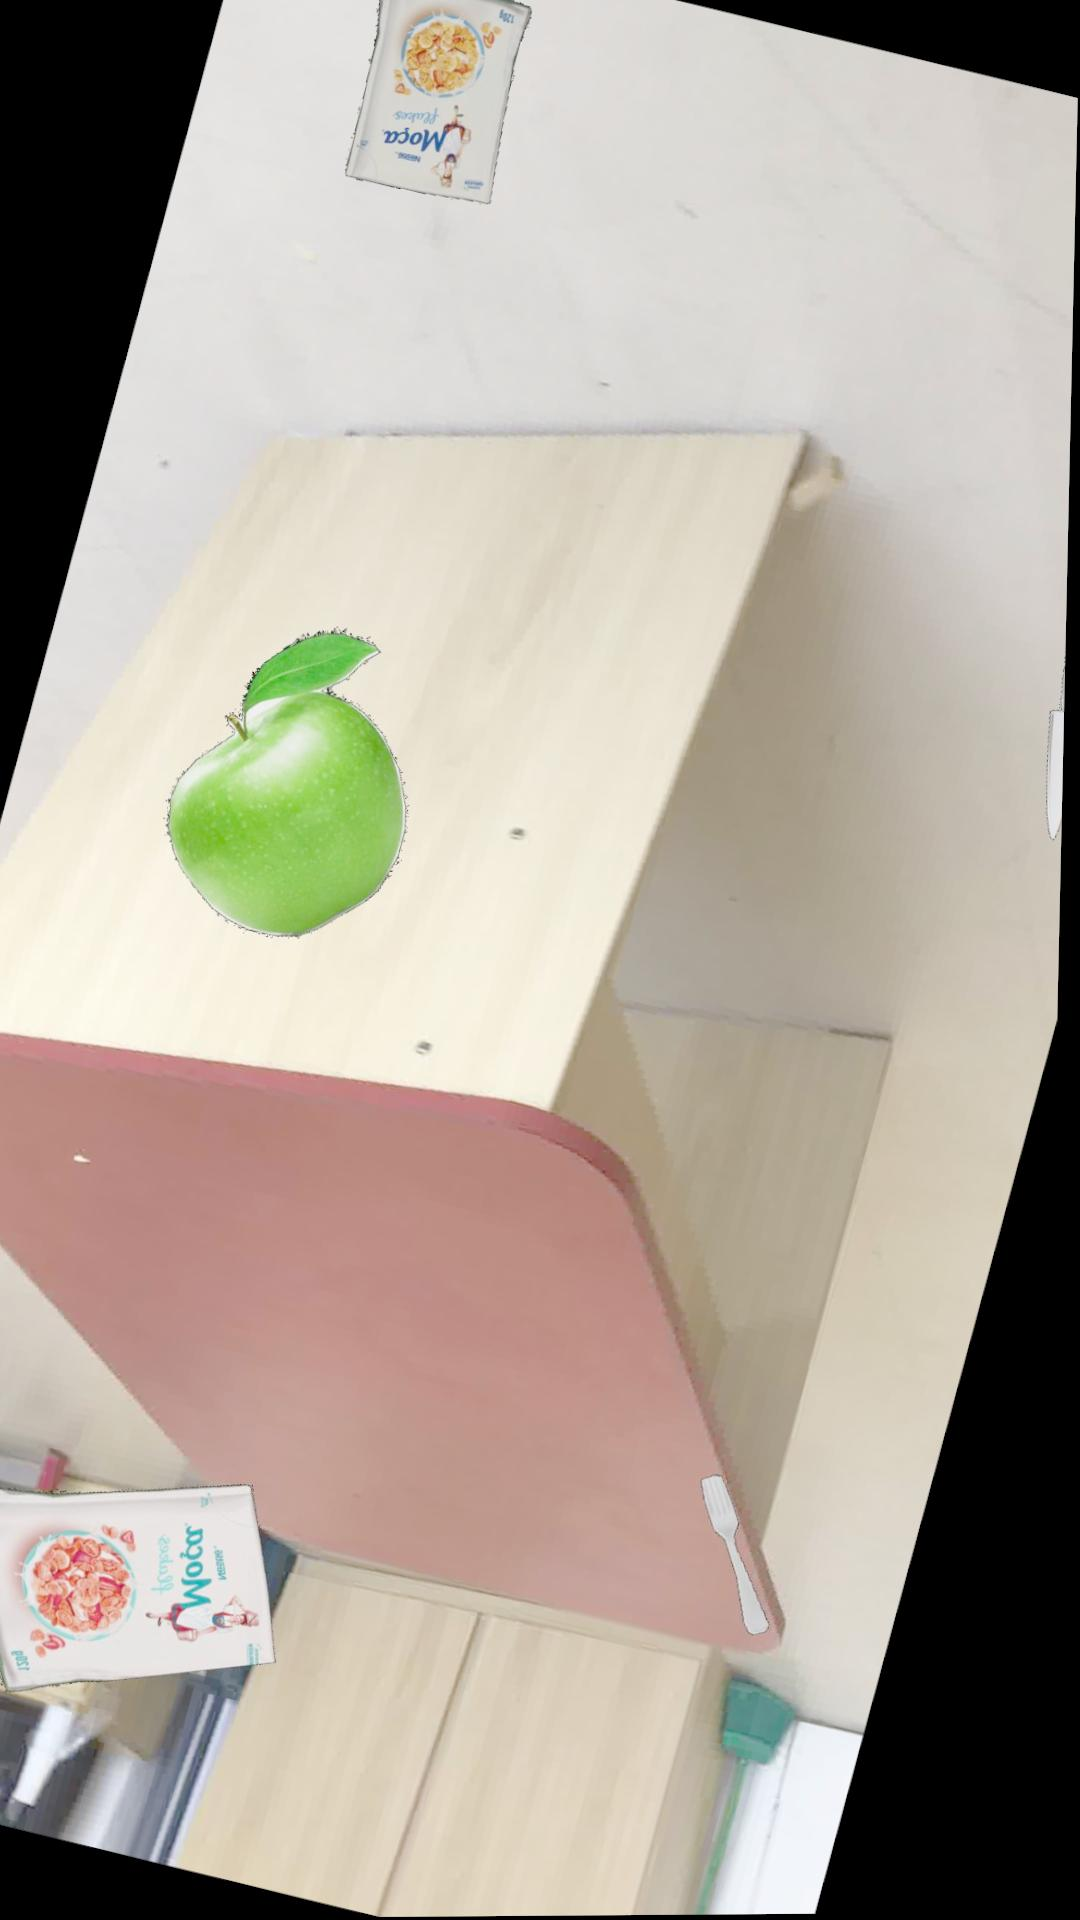corn flakes: (0, 1485, 281, 1692), (343, 0, 529, 206)
fork: (705, 1476, 774, 1636)
green apple: (166, 630, 407, 938)
knife: (1047, 649, 1068, 843)
